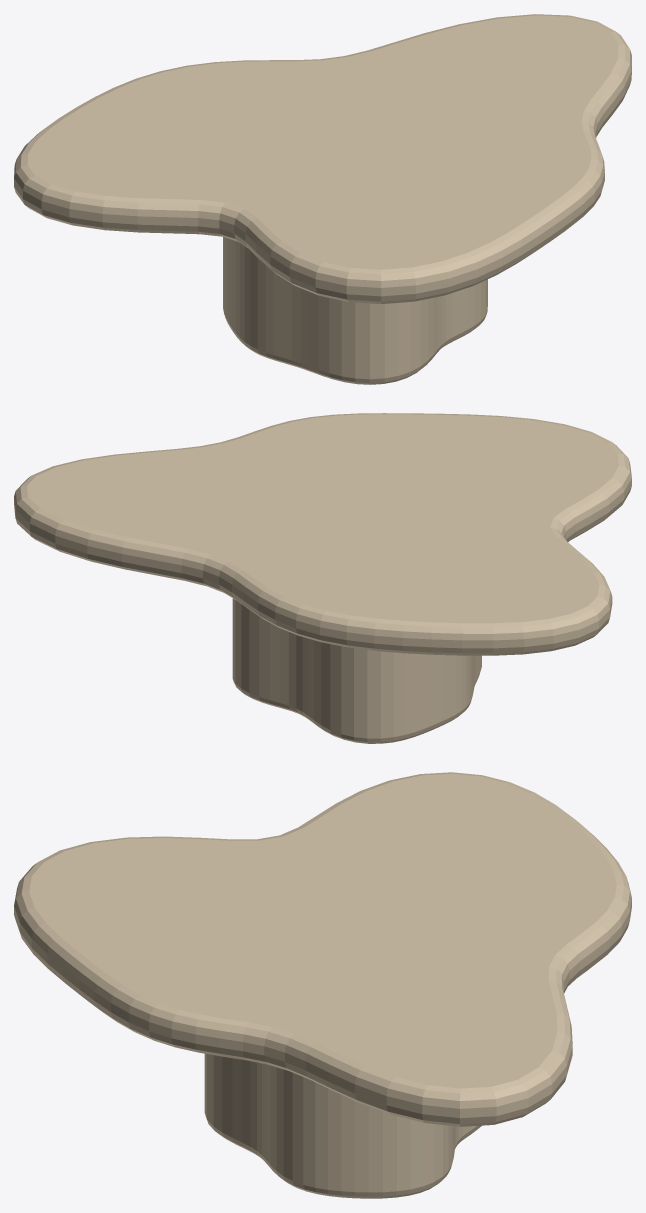
The model's file is organic-table-lg.glb.
The picture shows the model from 3 angles, top to bottom: view 1: azimuth 30°, elevation 25°; view 2: azimuth 150°, elevation 25°; view 3: azimuth 270°, elevation 25°; orthographic projection. The views are drawn at different scales.
Visible parts, largest first — view 1: otable_lg_top, otable_lg_foot; view 2: otable_lg_top, otable_lg_foot; view 3: otable_lg_top, otable_lg_foot.
Boxes of the visible parts, box(x1,y1,x2,y2) form: otable_lg_top: box(14, 14, 631, 303); otable_lg_foot: box(223, 237, 487, 384); otable_lg_top: box(14, 413, 631, 655); otable_lg_foot: box(232, 598, 481, 743); otable_lg_top: box(14, 772, 631, 1126); otable_lg_foot: box(204, 1053, 481, 1198).
Size of the model in its own units: 1.43 by 0.43 by 1.14.
